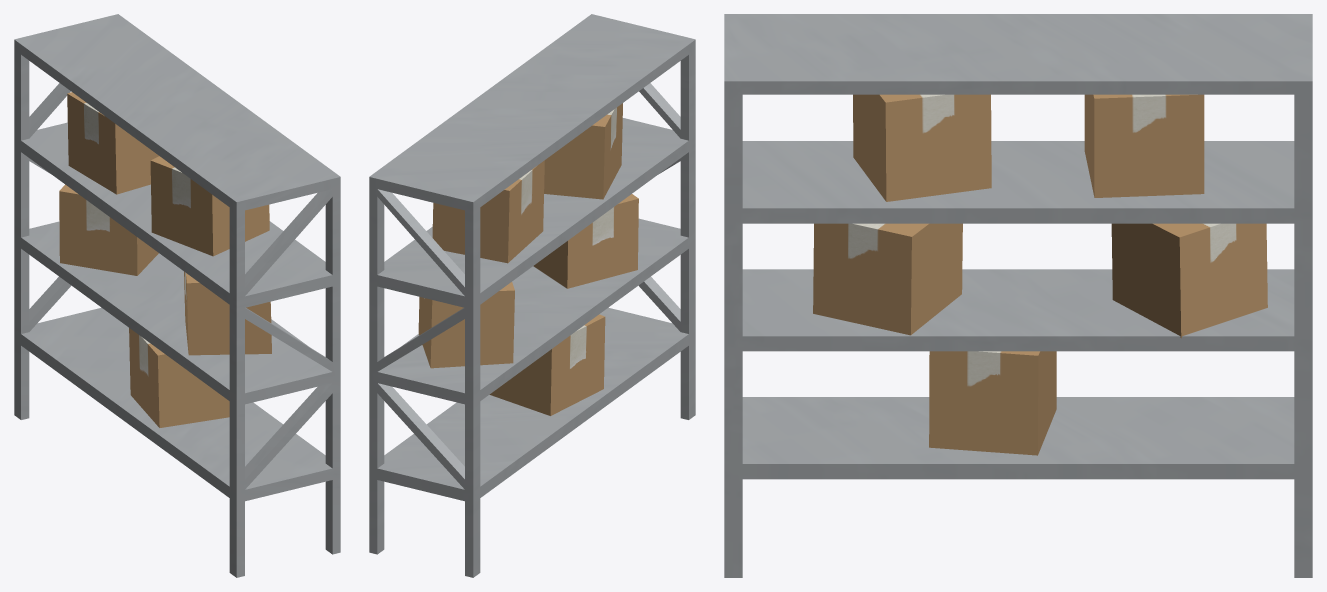
The model's file is Tutorial_arrangedShelf.fbx.
The picture shows the model from 3 angles, left to right: view 1: azimuth 30°, elevation 25°; view 2: azimuth 150°, elevation 25°; view 3: azimuth 270°, elevation 25°; orthographic projection. The views are drawn at different scales.
Visible parts, largest first — view 1: storageShelf, box11, box10, box12, box, box9; view 2: storageShelf, box10, box12, box9, box, box11; view 3: storageShelf, box, box9, box11, box10, box12.
Boxes of the visible parts, bbox=[...] form: storageShelf: bbox=[14, 14, 340, 577]; box11: bbox=[150, 156, 269, 256]; box10: bbox=[129, 328, 229, 427]; box12: bbox=[67, 92, 158, 194]; box: bbox=[59, 184, 158, 275]; box9: bbox=[184, 271, 271, 355]; storageShelf: bbox=[369, 14, 695, 577]; box10: bbox=[489, 314, 605, 415]; box12: bbox=[432, 160, 544, 263]; box9: bbox=[533, 194, 638, 288]; box: bbox=[418, 282, 514, 368]; box11: bbox=[544, 103, 622, 199]; storageShelf: bbox=[724, 14, 1312, 577]; box: bbox=[1111, 223, 1267, 338]; box9: bbox=[813, 223, 962, 335]; box11: bbox=[853, 94, 991, 201]; box10: bbox=[929, 351, 1056, 455]; box12: bbox=[1084, 94, 1204, 197].
Size of the model in its own units: 3.43 by 11.78 by 12.65.
1 material, 1 textured.
